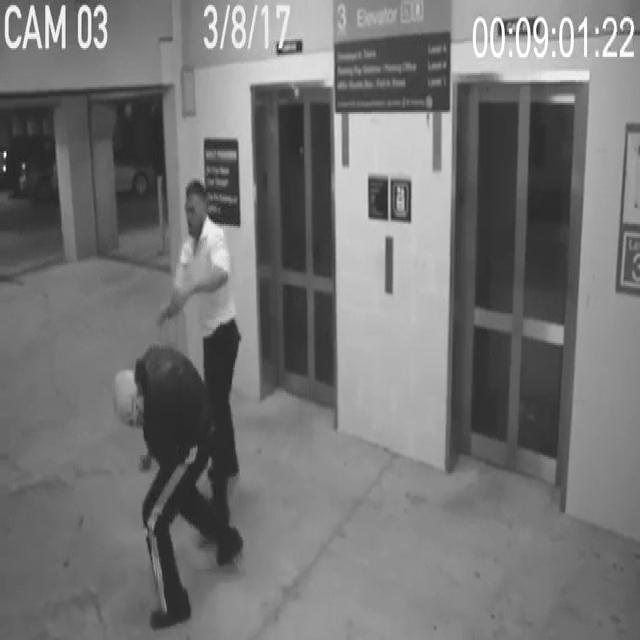fight: (93, 184, 280, 622)
